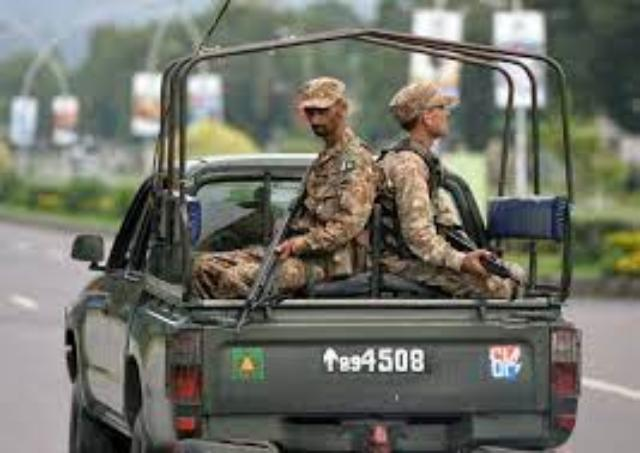plate: (321, 344, 434, 380)
